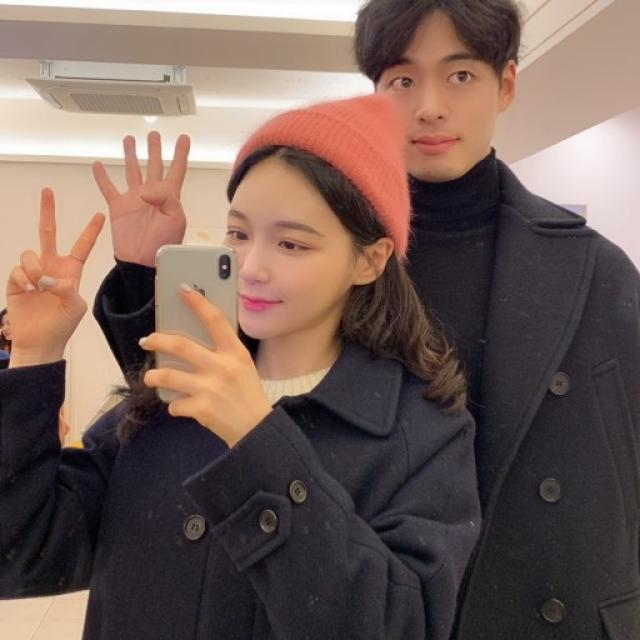phone: (155, 246, 239, 402)
